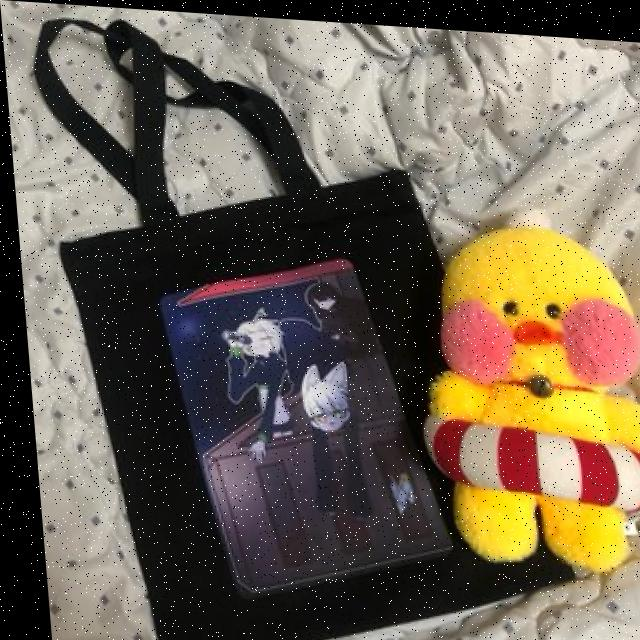ecobag: (5, 9, 595, 640)
